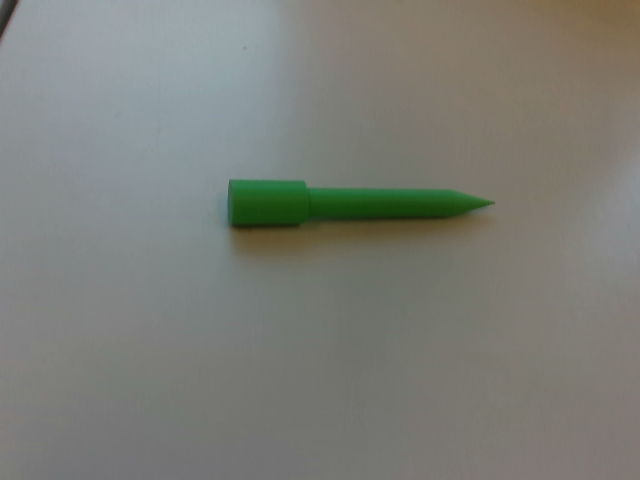Probe: (222, 175, 503, 234)
